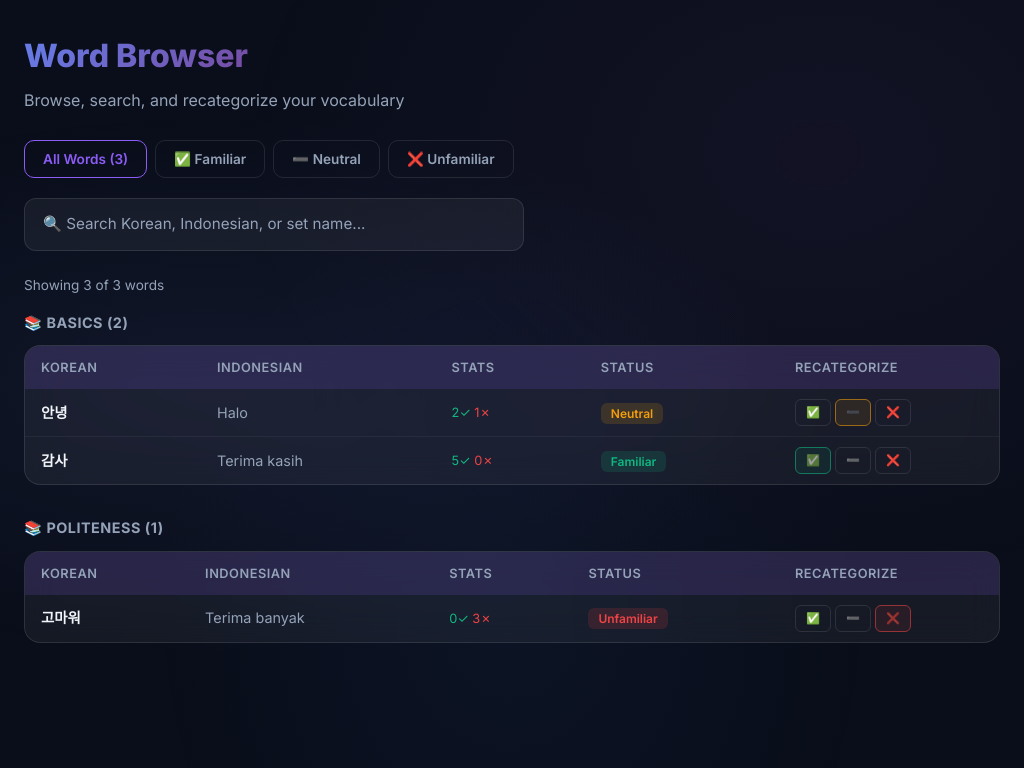
Scenario: WordBrowser › search filters cards by front text
Type "안녕" into the field with placeholder "🔍 Search Korean, Indonesian, or set name..." at (274, 225), box [24,198,524,251]
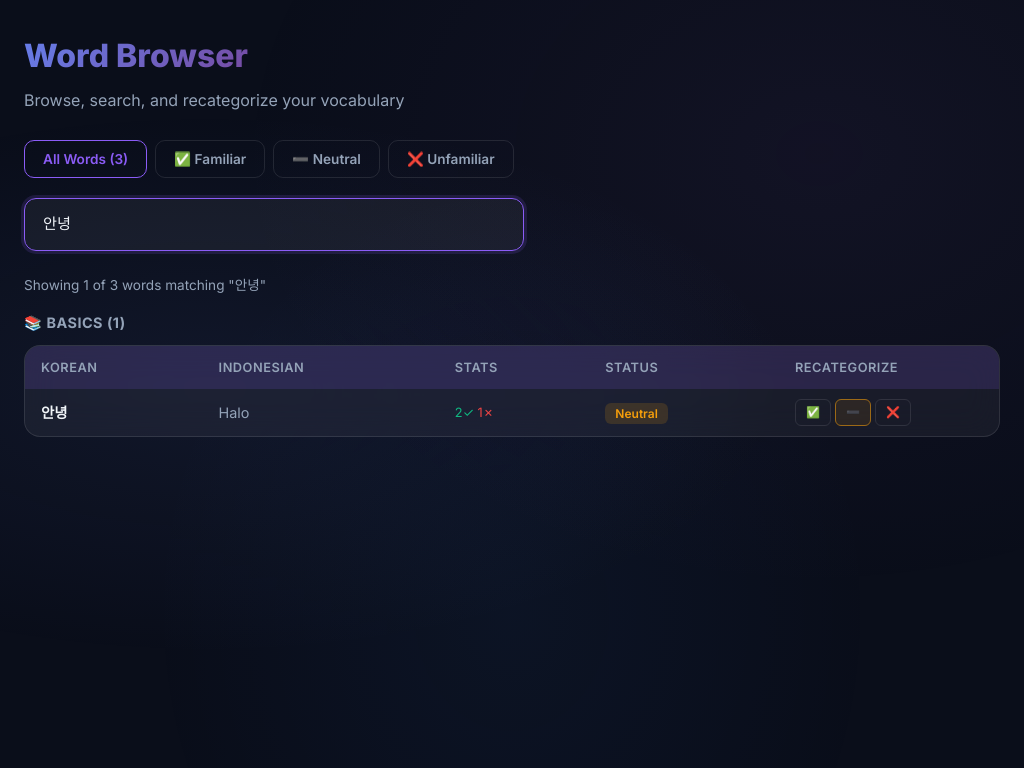
Expected: the text "안녕" is shown, [25,389,203,436]
Expected: the heading "Basics (2)" is gone
